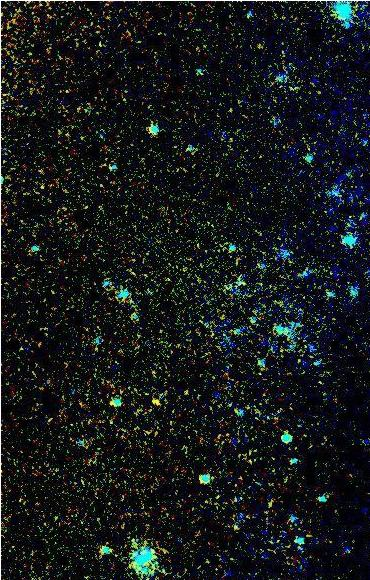star: (138, 384, 168, 414)
